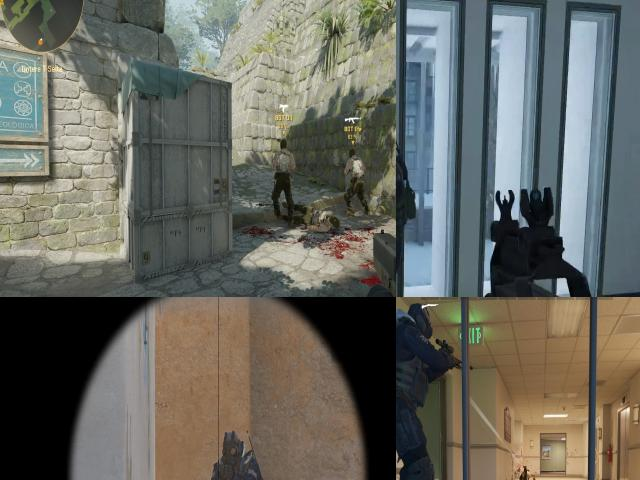CT: (396, 300, 444, 480), (396, 115, 414, 266), (211, 429, 262, 480)
CT-Head: (401, 304, 432, 340), (219, 428, 246, 465)
Dead: (289, 200, 339, 234), (517, 467, 535, 480)
T: (268, 137, 298, 220), (342, 143, 371, 216)
T-Head: (278, 136, 292, 151), (347, 145, 360, 161)
